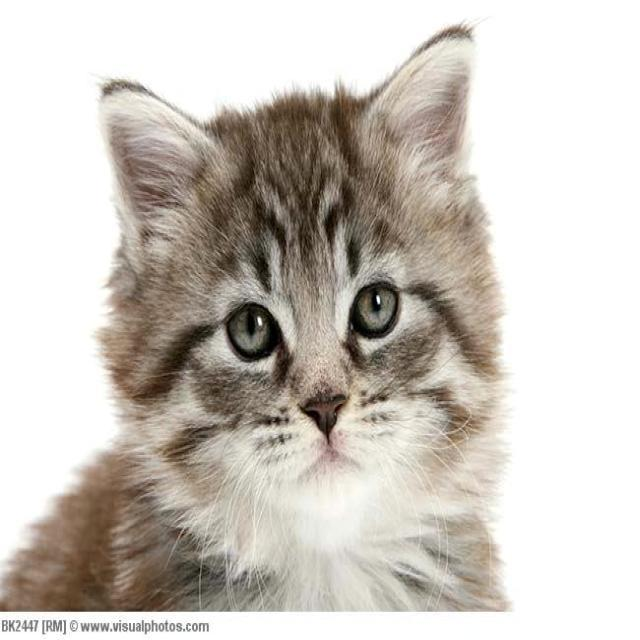Maine_Coon: (94, 27, 507, 572)
